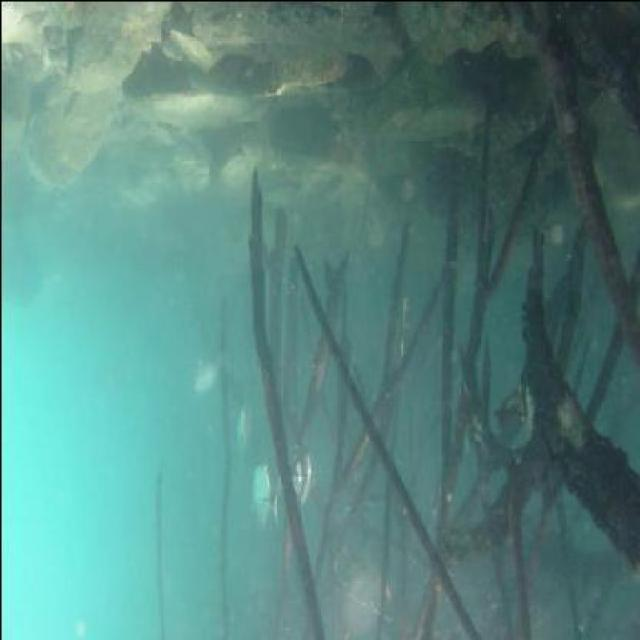Caranx_sexfasciatus_juvenile: (262, 435, 316, 519), (246, 462, 276, 542), (184, 338, 218, 399), (226, 393, 254, 461)
